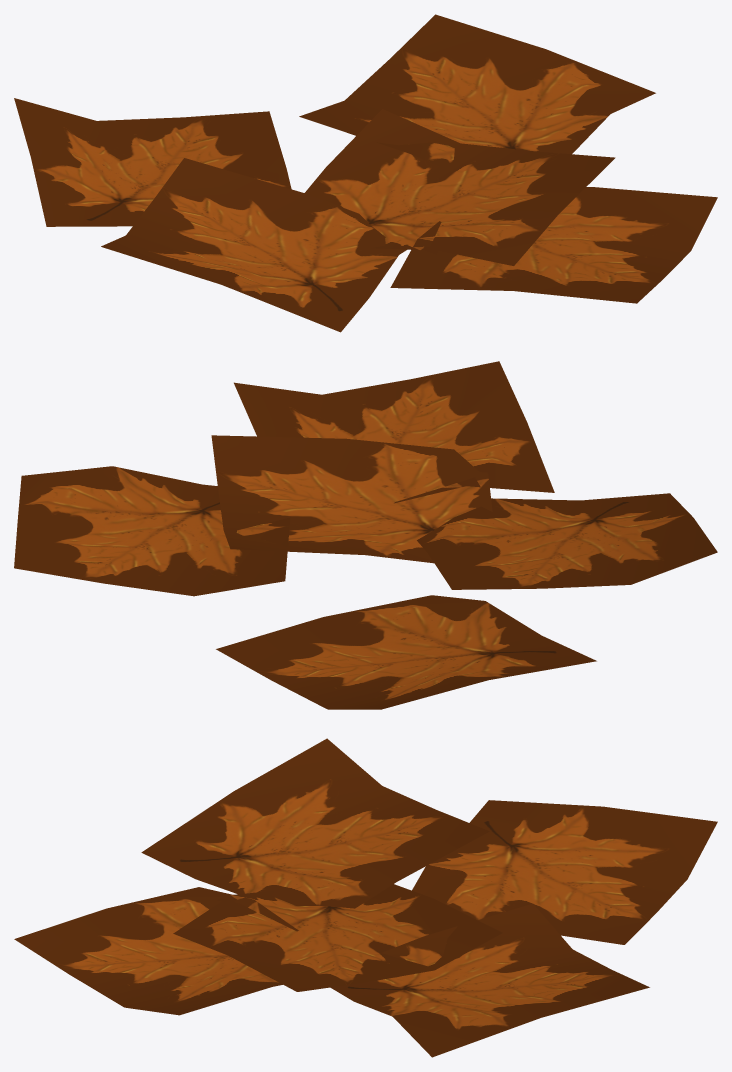
Rendered from Mapleleaves - Copy.fbx.
3 renders of one model, top to bottom at view 1: azimuth 30°, elevation 25°; view 2: azimuth 150°, elevation 25°; view 3: azimuth 270°, elevation 25°, orthographic. The views are drawn at different scales.
Visible parts, largest first — view 1: pPlane4, pPlane2, pPlane6, pPlane3, pPlane5; view 2: pPlane6, pPlane2, pPlane3, pPlane4, pPlane5; view 3: pPlane4, pPlane3, pPlane2, pPlane6, pPlane5.
Part boxes in pixels (box(x1,y1,x2,y2)): pPlane4: box(101, 158, 406, 332); pPlane2: box(299, 14, 655, 171); pPlane6: box(304, 109, 615, 265); pPlane3: box(14, 98, 291, 226); pPlane5: box(390, 187, 717, 303); pPlane6: box(211, 435, 492, 563); pPlane2: box(14, 466, 290, 596); pPlane3: box(216, 595, 596, 709); pPlane4: box(417, 493, 717, 589); pPlane5: box(234, 361, 554, 503); pPlane4: box(141, 738, 489, 908); pPlane3: box(412, 800, 717, 944); pPlane2: box(330, 903, 649, 1057); pPlane6: box(173, 884, 502, 991); pPlane5: box(14, 887, 298, 1015).
Bounding box in the file's own units: 27.16 × 3.09 × 28.35.
